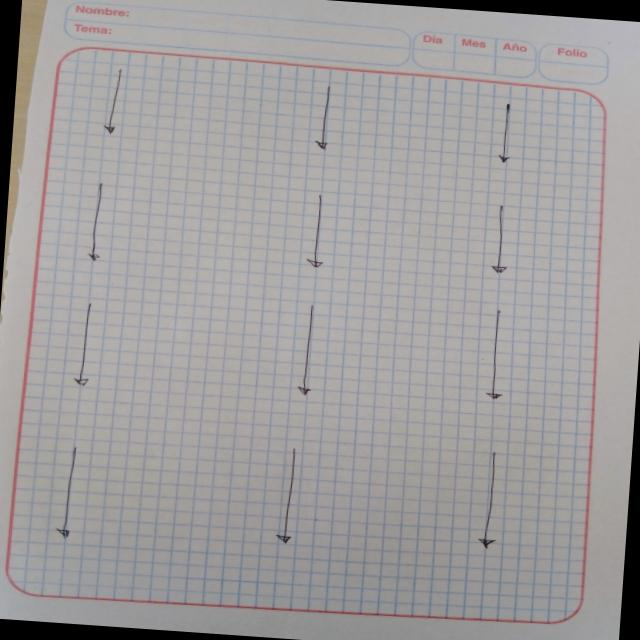arrow_line_down: (472, 304, 520, 404), (52, 441, 92, 544), (472, 448, 509, 552), (269, 444, 303, 548), (292, 301, 326, 403), (64, 298, 100, 387), (479, 203, 518, 279), (81, 180, 115, 265), (495, 91, 524, 169), (302, 197, 330, 271), (312, 86, 338, 158), (101, 68, 124, 140)
